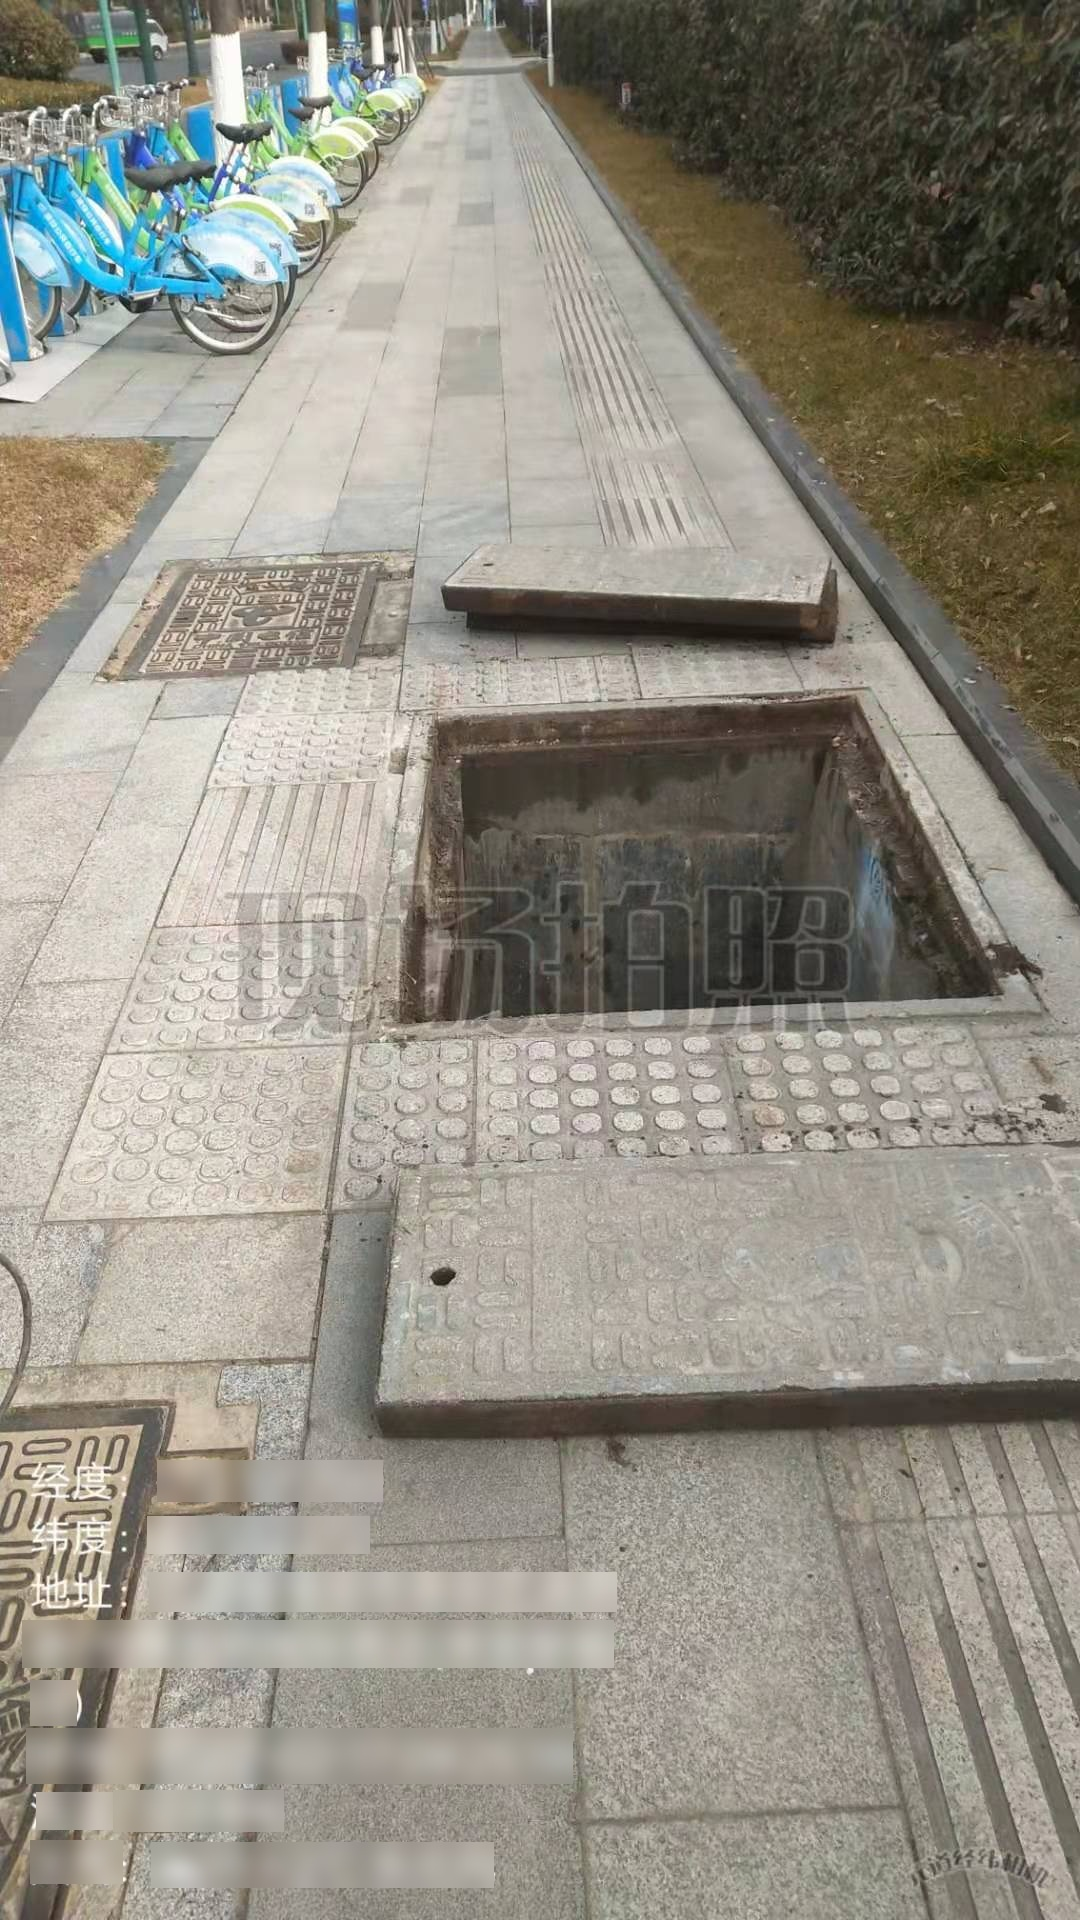good: (96, 541, 407, 673)
uncovered: (373, 541, 1080, 1440)
